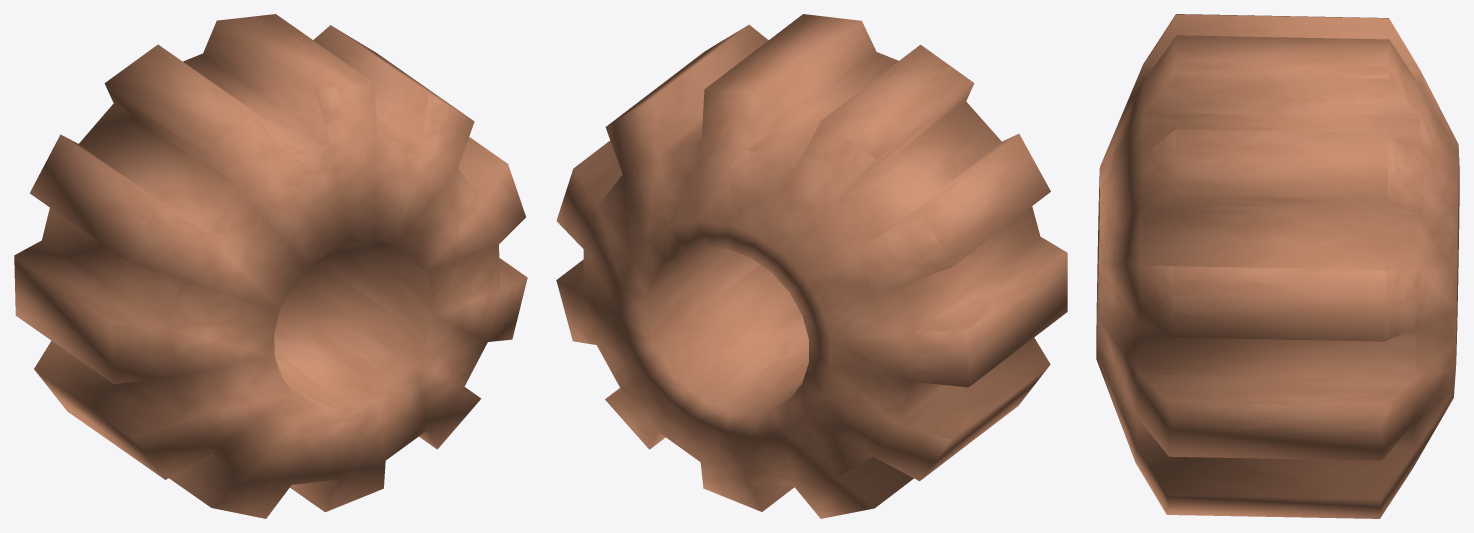
File: Cog2.fbx
The picture shows the model from 3 angles, left to right: view 1: azimuth 30°, elevation 25°; view 2: azimuth 150°, elevation 25°; view 3: azimuth 270°, elevation 25°; orthographic projection. The views are drawn at different scales.
Parts seen in each view (by area): view 1: polySurface1158; view 2: polySurface1158; view 3: polySurface1158.
Part boxes in pixels (x1=…): polySurface1158: x1=14, y1=14, x2=527, y2=518; polySurface1158: x1=556, y1=14, x2=1067, y2=518; polySurface1158: x1=1096, y1=14, x2=1459, y2=518.
Size of the model in its own units: 12.15 by 11.89 by 8.54.
